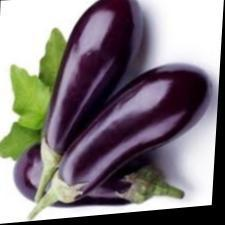eggplant: (33, 0, 214, 215)
